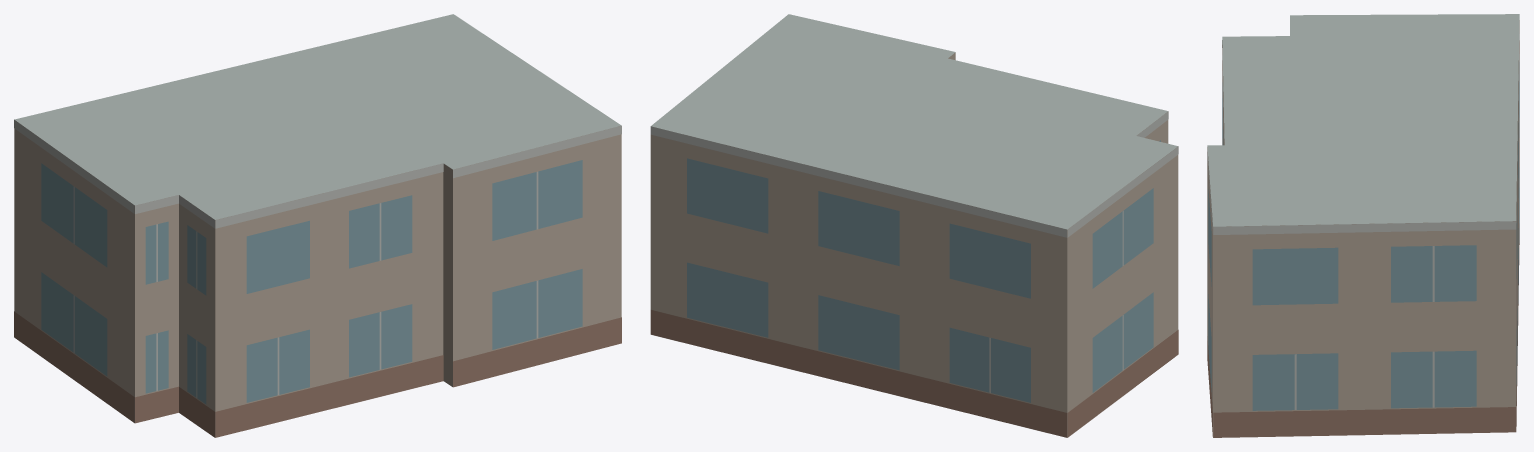
File: survey-upis-32493936.glb
3 renders of one model, left to right at view 1: azimuth 30°, elevation 25°; view 2: azimuth 150°, elevation 25°; view 3: azimuth 270°, elevation 25°, orthographic. The views are drawn at different scales.
Visible parts, largest first — view 1: survey-upis-32493936.tmp; view 2: survey-upis-32493936.tmp; view 3: survey-upis-32493936.tmp.
Boxes of the visible parts, bbox=[...] form: survey-upis-32493936.tmp: bbox=[14, 14, 621, 437]; survey-upis-32493936.tmp: bbox=[650, 14, 1178, 437]; survey-upis-32493936.tmp: bbox=[1207, 14, 1519, 437].
Size of the model in its own units: 13.19 by 6.1 by 8.19.
